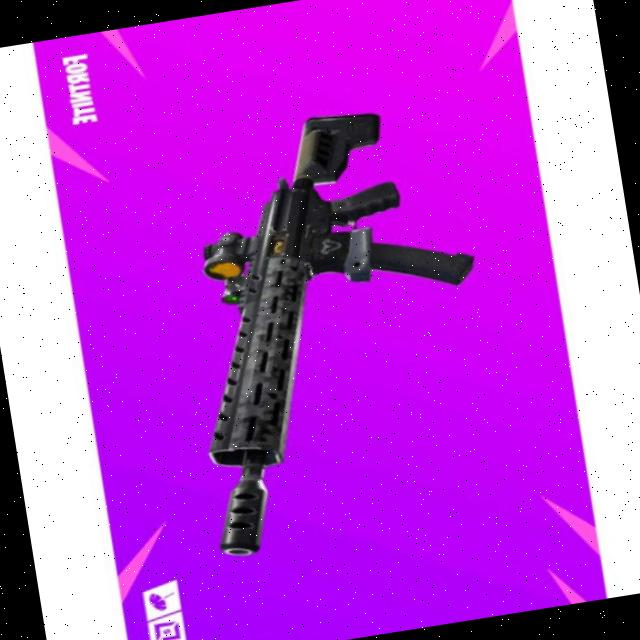Automaticrifle: (148, 80, 520, 560)
